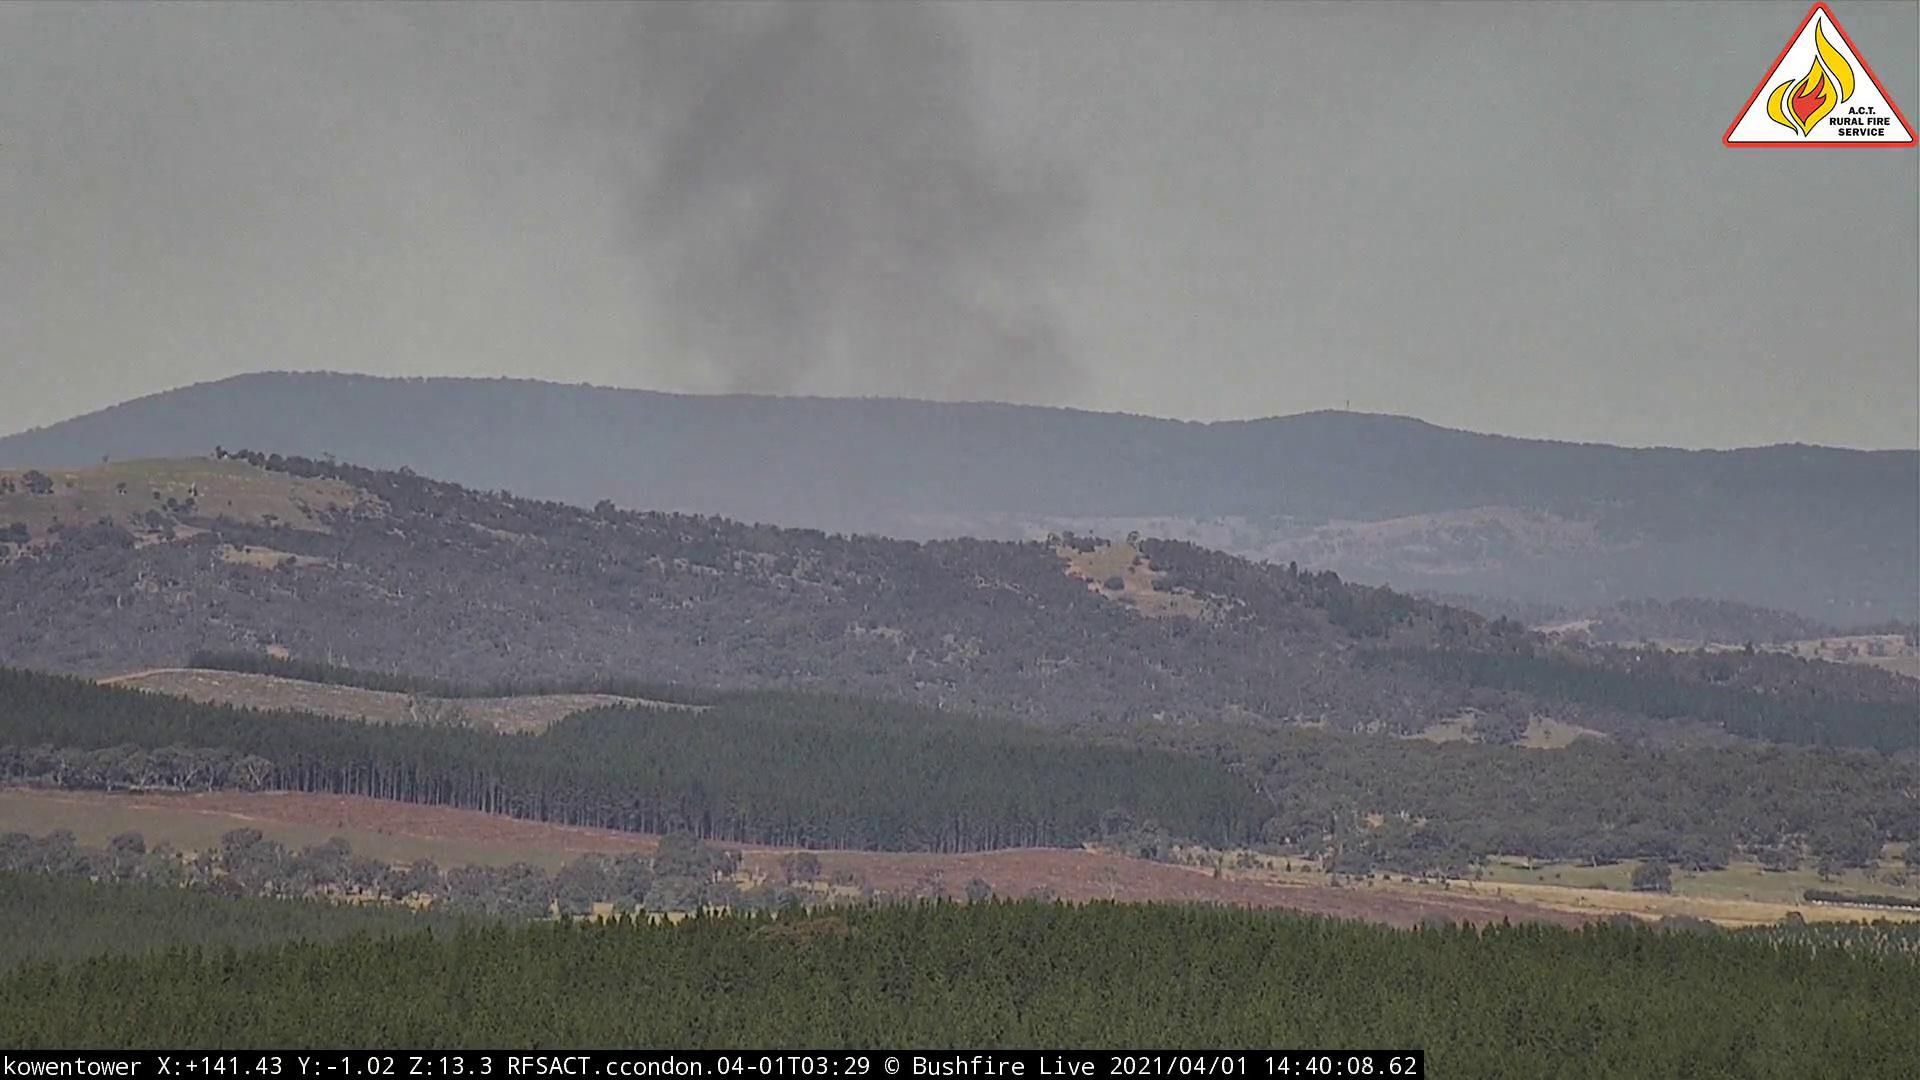Smoke: (520, 3, 1120, 463)
